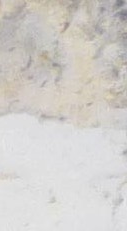Spalling: (1, 1, 127, 132)
